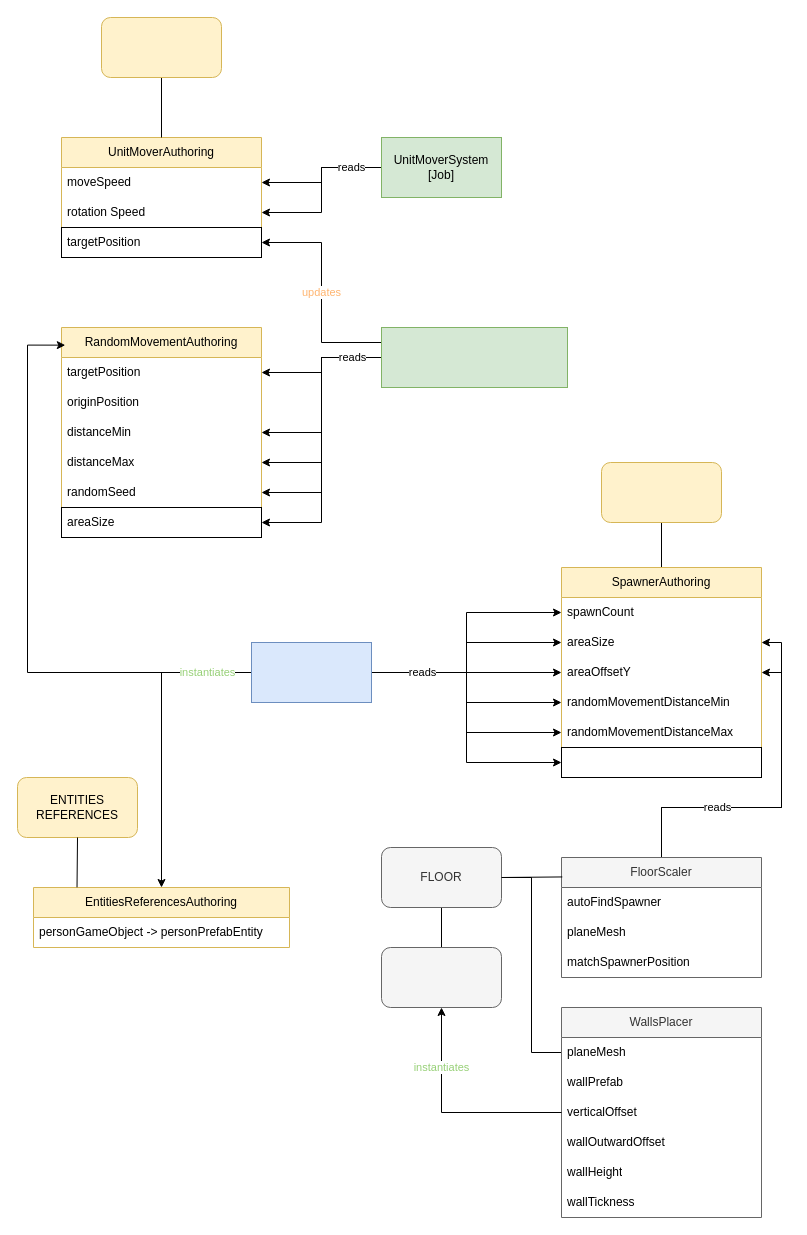
Some shapes in this 807 by 1235 pixel diagram are drawn without their labels. Here are the shapes that lost their labels. From the top down, the centre of each, then its label:
(x=161, y=47): UNIT
(x=474, y=357): RandomMovementSystem [Job]
(x=661, y=492): SPAWNER
(x=311, y=672): SpawenSystem
(x=661, y=762): hasSpawned
(x=441, y=977): WALLS
